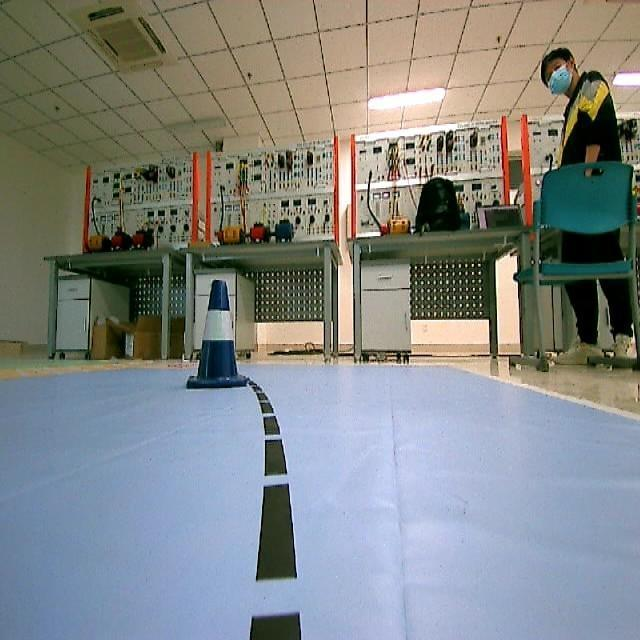obstacle: (171, 273, 261, 398)
